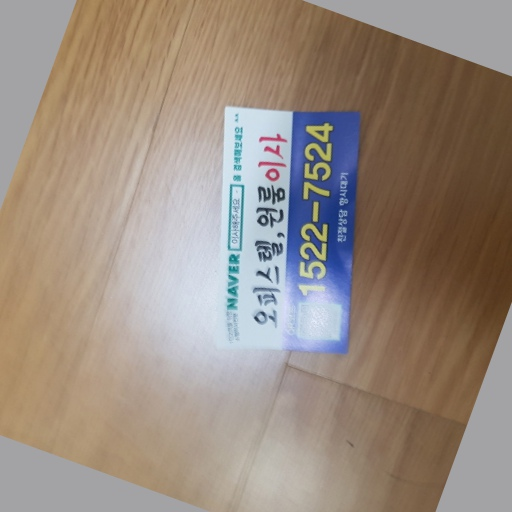Paper_2: (214, 100, 363, 361)
